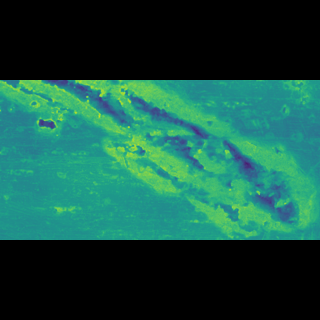Loch: (1, 120, 315, 200)
